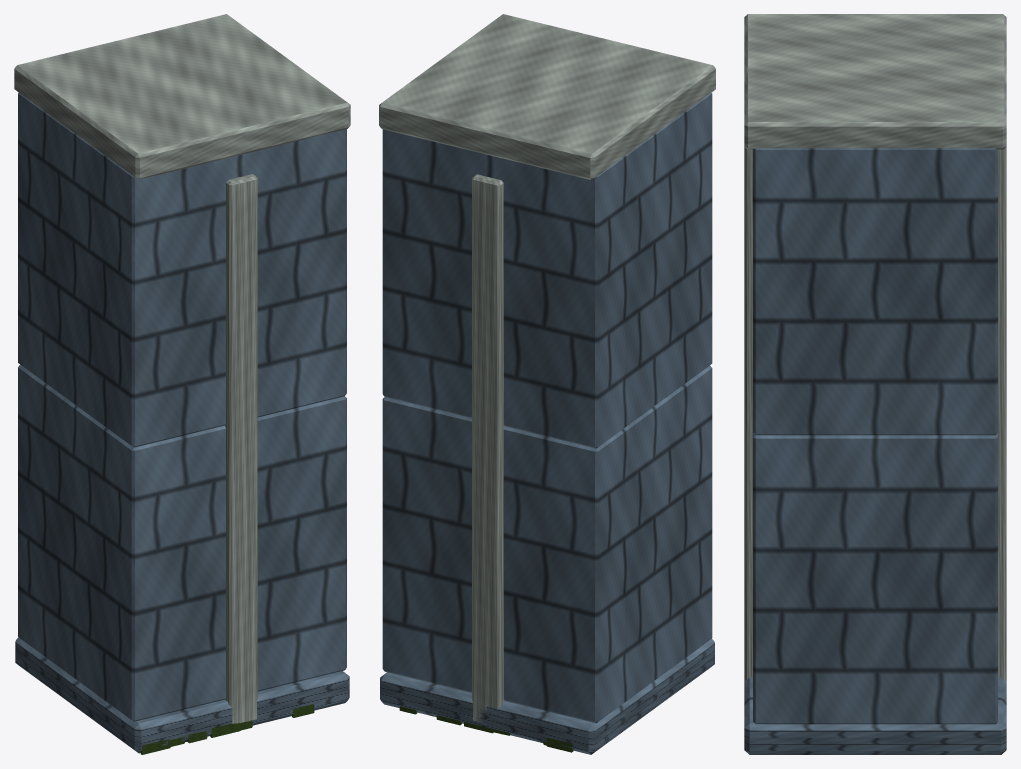
File: wall_section.glb
3 views of the same model, side by side, from view 1: azimuth 30°, elevation 25°; view 2: azimuth 150°, elevation 25°; view 3: azimuth 270°, elevation 25° (orthographic). The views are drawn at different scales.
Parts seen in each view (by area): view 1: Architecture; view 2: Architecture; view 3: Architecture.
Part boxes in pixels (x1,y1,x2,y2): Architecture: (14,14,350,754); Architecture: (379,14,715,754); Architecture: (744,14,1006,754).
Bounding box in the file's own units: 6 × 16 × 6.
Materials: 1 (1 with a texture image).
